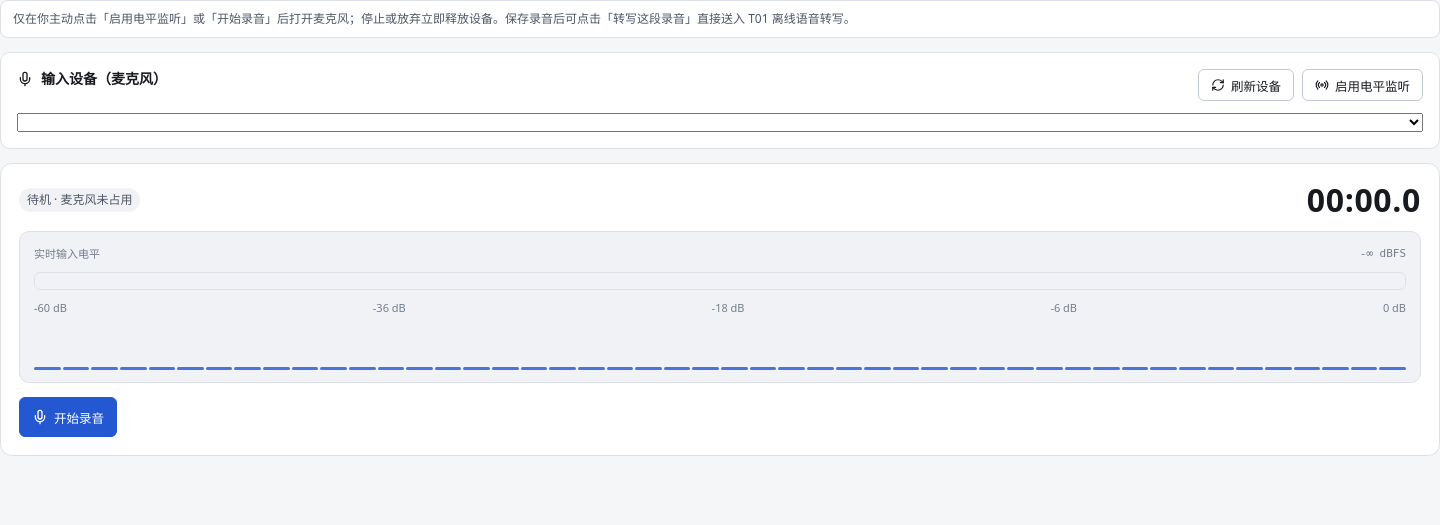
Test: A02 AudioRecorderWorkspace › shows localized microphone permission error when Windows denies access
Click the button with test id "a02-start-btn": click(68, 417) [19,397,117,437]
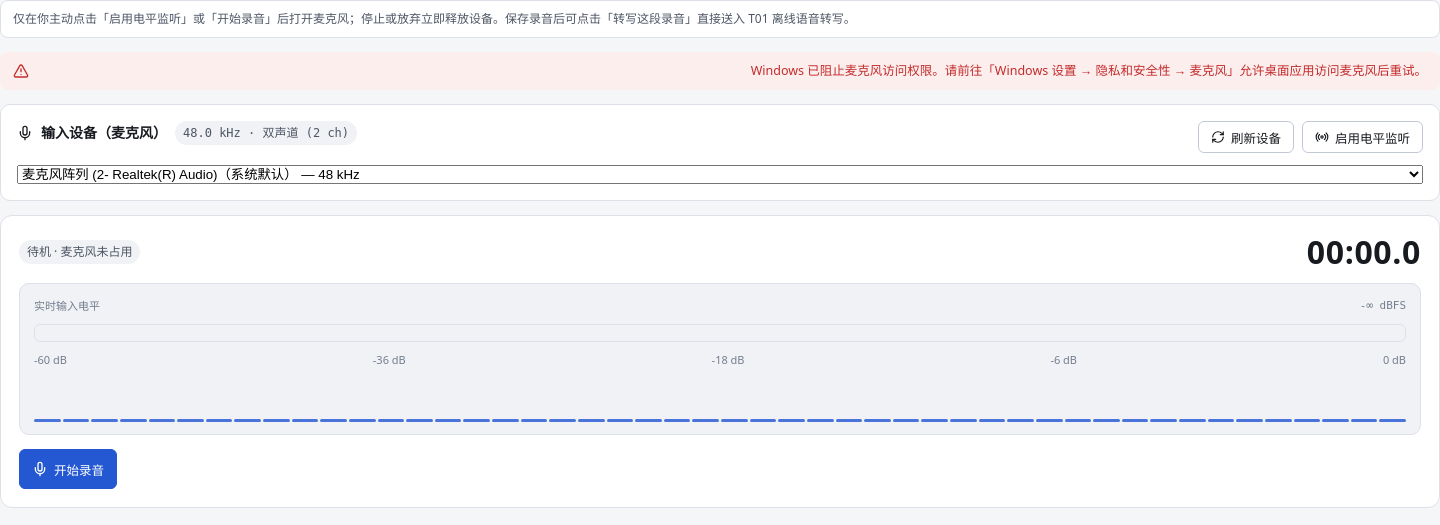
Now the text "Windows 已阻止麦克风访问权限" is shown, box [751,62,1427,79]
